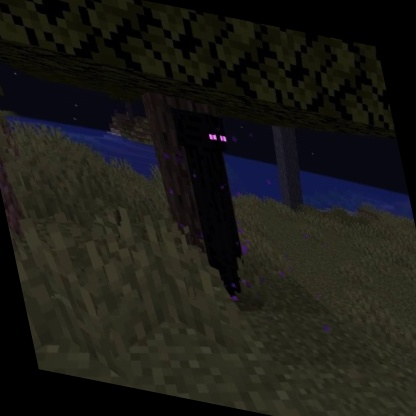enderman: (164, 102, 268, 311)
